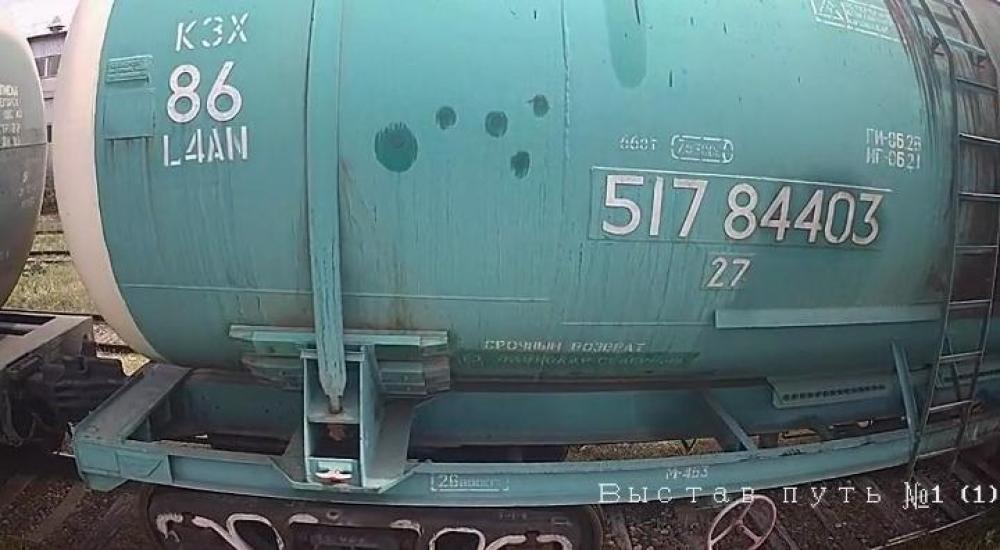Wagon-number: (595, 171, 886, 254)
